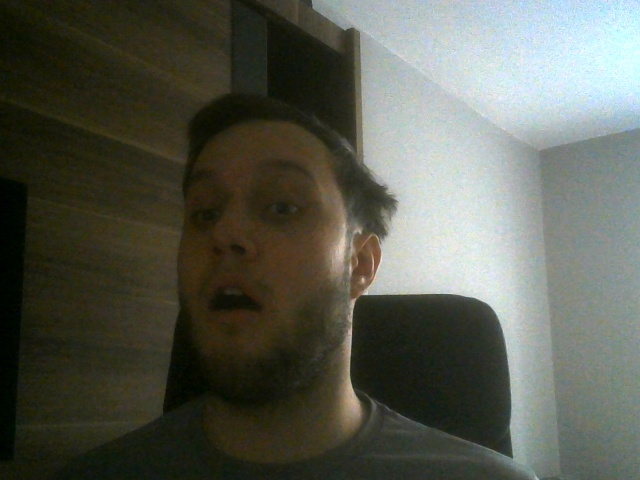surprised: (177, 92, 381, 395)
